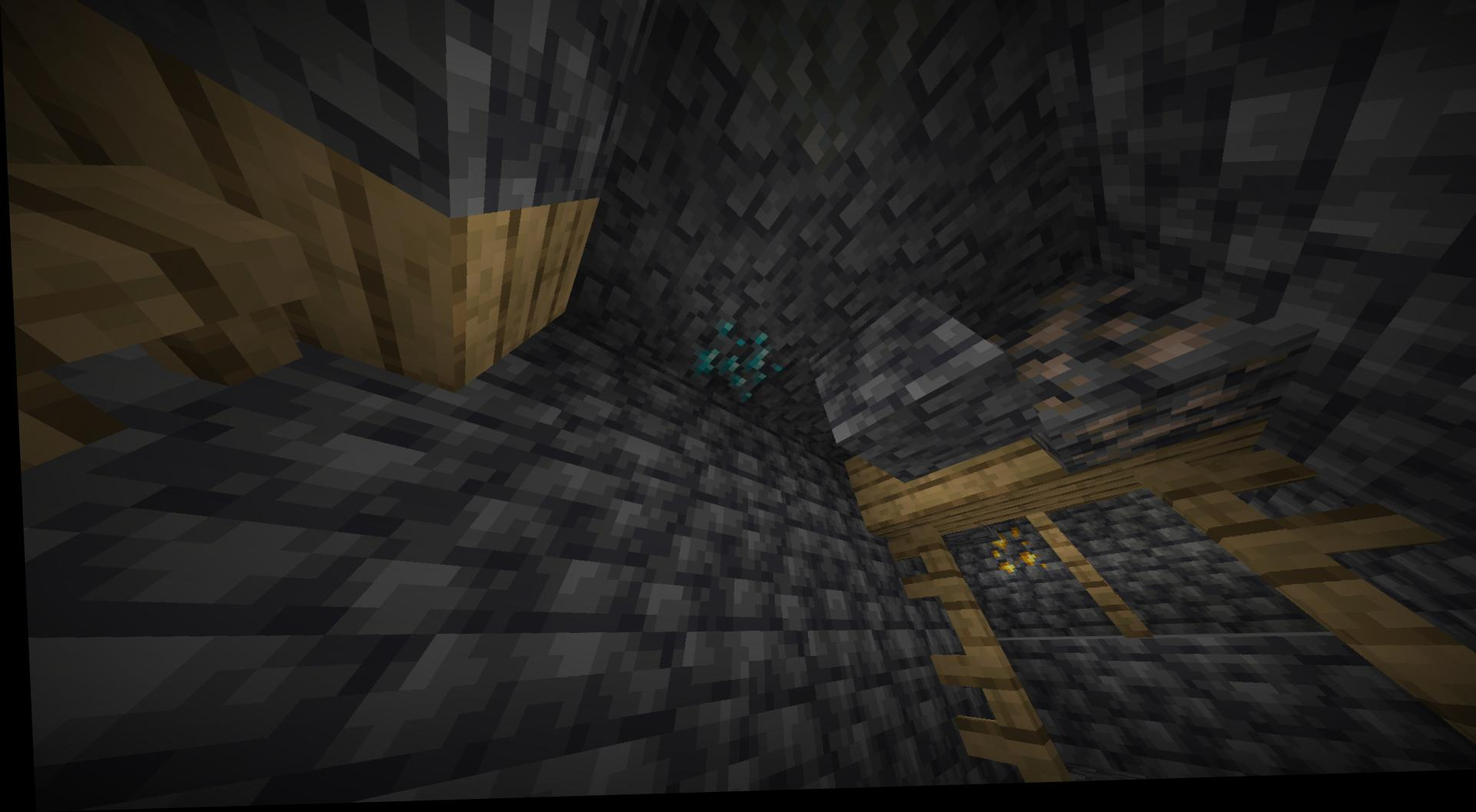diamond ore: (687, 318, 780, 406)
gold ore: (978, 533, 1038, 582)
iron ore: (977, 274, 1244, 414), (1065, 360, 1288, 474)
